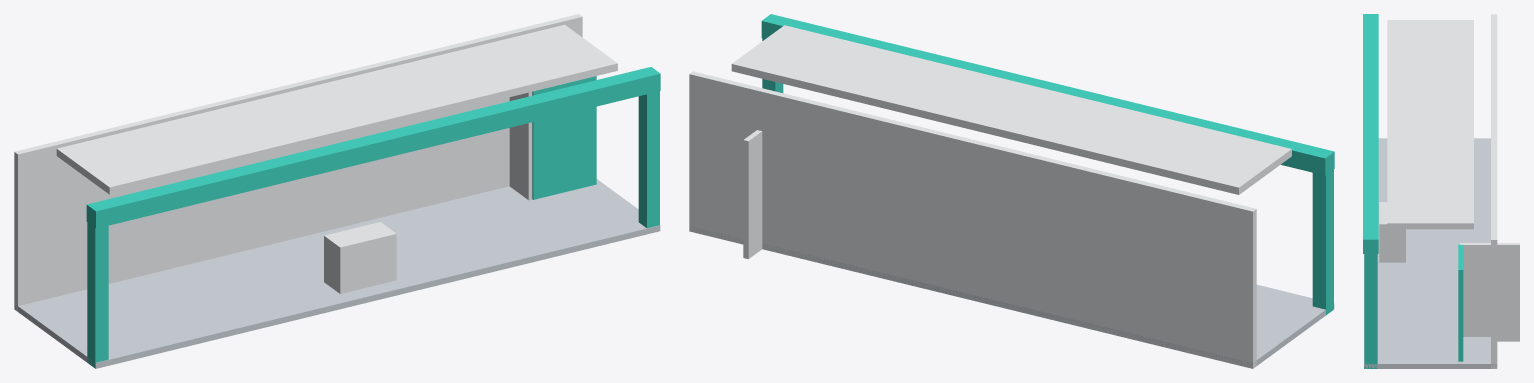
3 renders of one model, left to right at view 1: azimuth 30°, elevation 25°; view 2: azimuth 150°, elevation 25°; view 3: azimuth 270°, elevation 25°, orthographic. The views are drawn at different scales.
Visible parts, largest first — view 1: Exhibition Booth Concept; view 2: Exhibition Booth Concept; view 3: Exhibition Booth Concept.
Boxes of the visible parts, x1,y1,x2,y2 form: Exhibition Booth Concept: [14, 14, 660, 368]; Exhibition Booth Concept: [689, 14, 1334, 368]; Exhibition Booth Concept: [1363, 14, 1519, 368].
Size of the model in its own units: 12 by 3.34 by 3.52.
